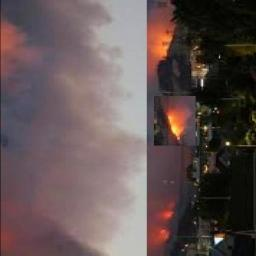Heavy smoke: (0, 0, 139, 256)
Small fire: (111, 0, 217, 256)
